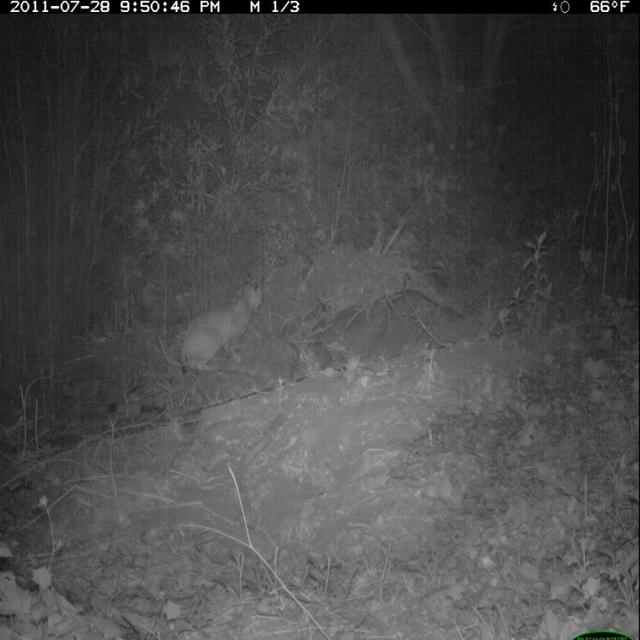bobcat: (167, 261, 273, 382)
